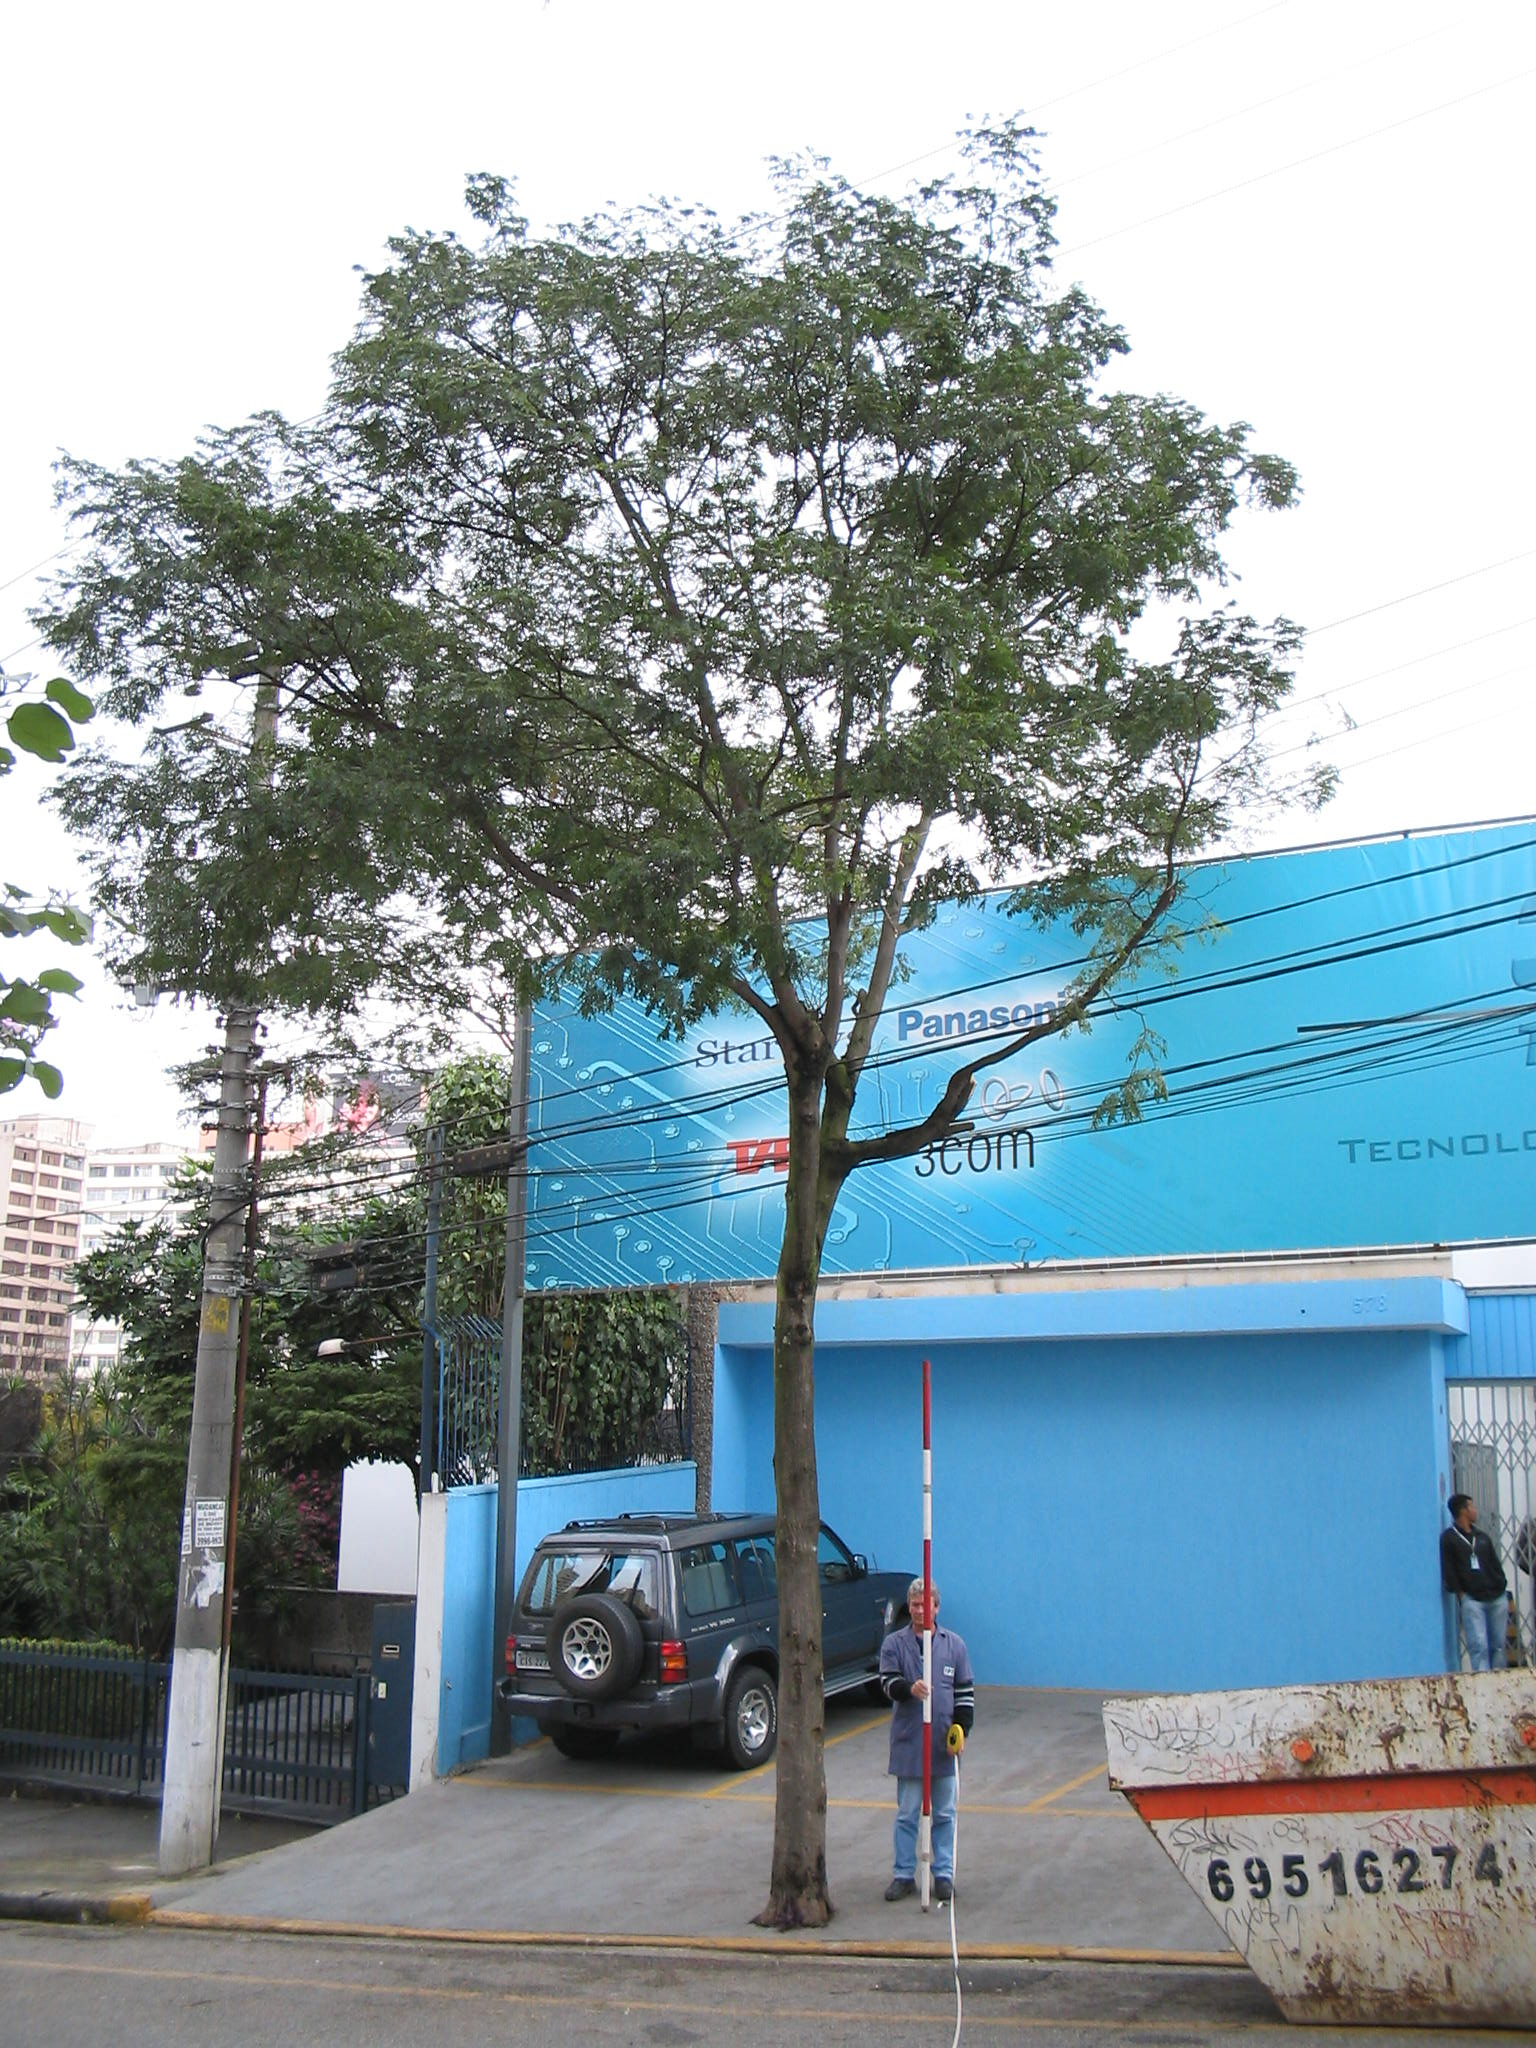crown: (45, 111, 1354, 1127)
stem: (715, 1159, 865, 1922)
stick: (886, 1363, 954, 1906)
tree: (37, 106, 1363, 1914)
